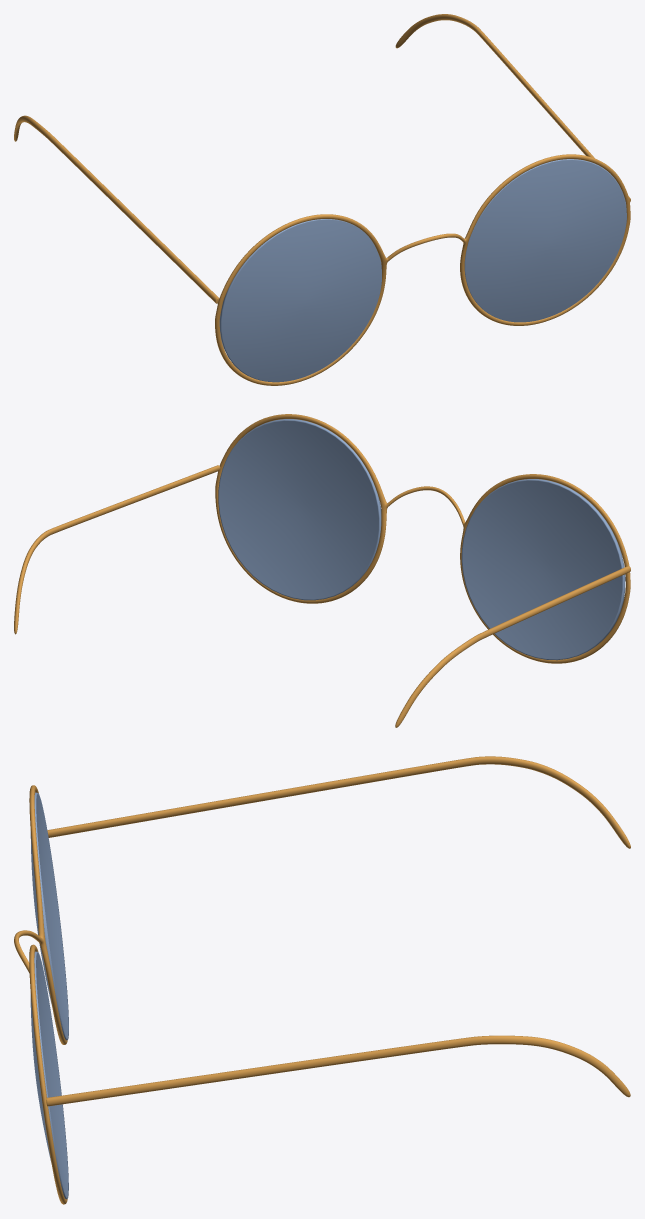
The model's file is vintage glasses.obj.
The picture shows the model from 3 angles, top to bottom: view 1: azimuth 30°, elevation 25°; view 2: azimuth 150°, elevation 25°; view 3: azimuth 270°, elevation 25°; orthographic projection. The views are drawn at different scales.
Visible parts, largest first — view 1: glasses_lenses_Circle.000, glasses_frame_Circle.001; view 2: glasses_lenses_Circle.000, glasses_frame_Circle.001; view 3: glasses_frame_Circle.001, glasses_lenses_Circle.000.
Boxes of the visible parts, bbox=[...] form: glasses_lenses_Circle.000: bbox=[219, 159, 626, 382]; glasses_frame_Circle.001: bbox=[14, 14, 630, 385]; glasses_lenses_Circle.000: bbox=[218, 419, 625, 660]; glasses_frame_Circle.001: bbox=[14, 414, 630, 727]; glasses_frame_Circle.001: bbox=[14, 756, 630, 1204]; glasses_lenses_Circle.000: bbox=[30, 792, 68, 1199].
Size of the model in its own units: 127 by 49.38 by 117.
